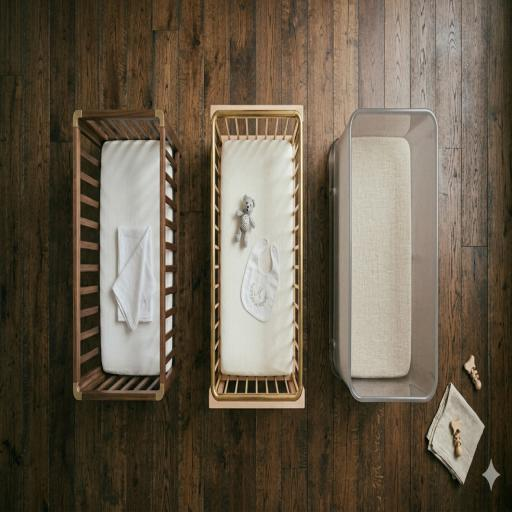crib: (330, 109, 438, 401), (210, 106, 304, 407), (100, 141, 159, 375)
